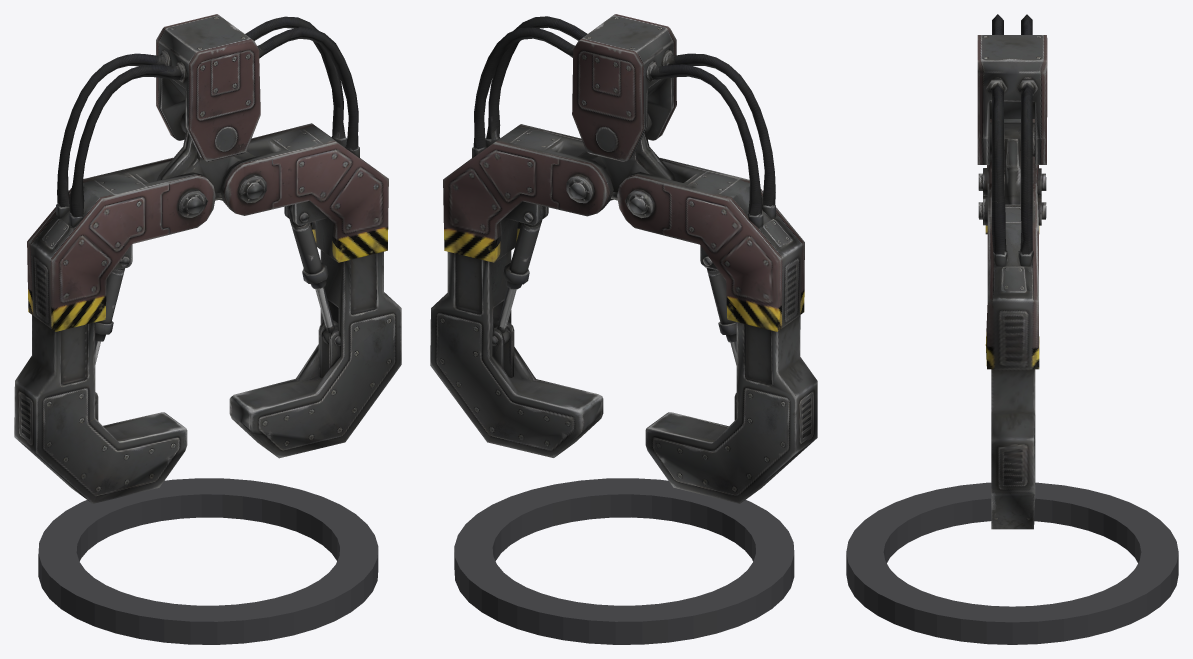
The model's file is clamp.glb.
3 views of the same model, side by side, from view 1: azimuth 30°, elevation 25°; view 2: azimuth 150°, elevation 25°; view 3: azimuth 270°, elevation 25° (orthographic). The views are drawn at different scales.
Visible parts, largest first — view 1: clamp; view 2: clamp; view 3: clamp.
Part boxes in pixels (<box>): clamp: <box>14,14,401,644</box>; clamp: <box>430,14,817,644</box>; clamp: <box>846,14,1178,644</box>.
Bounding box in the file's own units: 4.95 × 7 × 4.
Materials: 2 (1 with a texture image).
